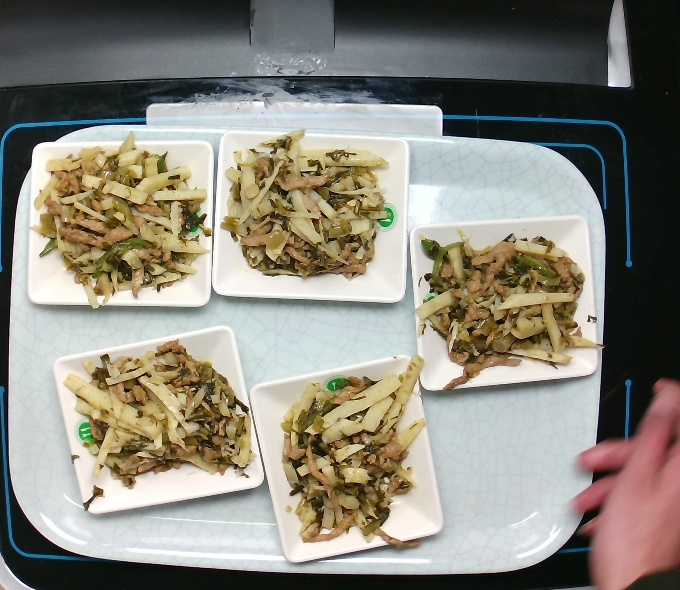wcq-RouSiDongSun: (270, 362, 436, 560), (72, 343, 248, 500), (418, 223, 594, 380), (216, 133, 392, 290), (34, 141, 210, 298)
